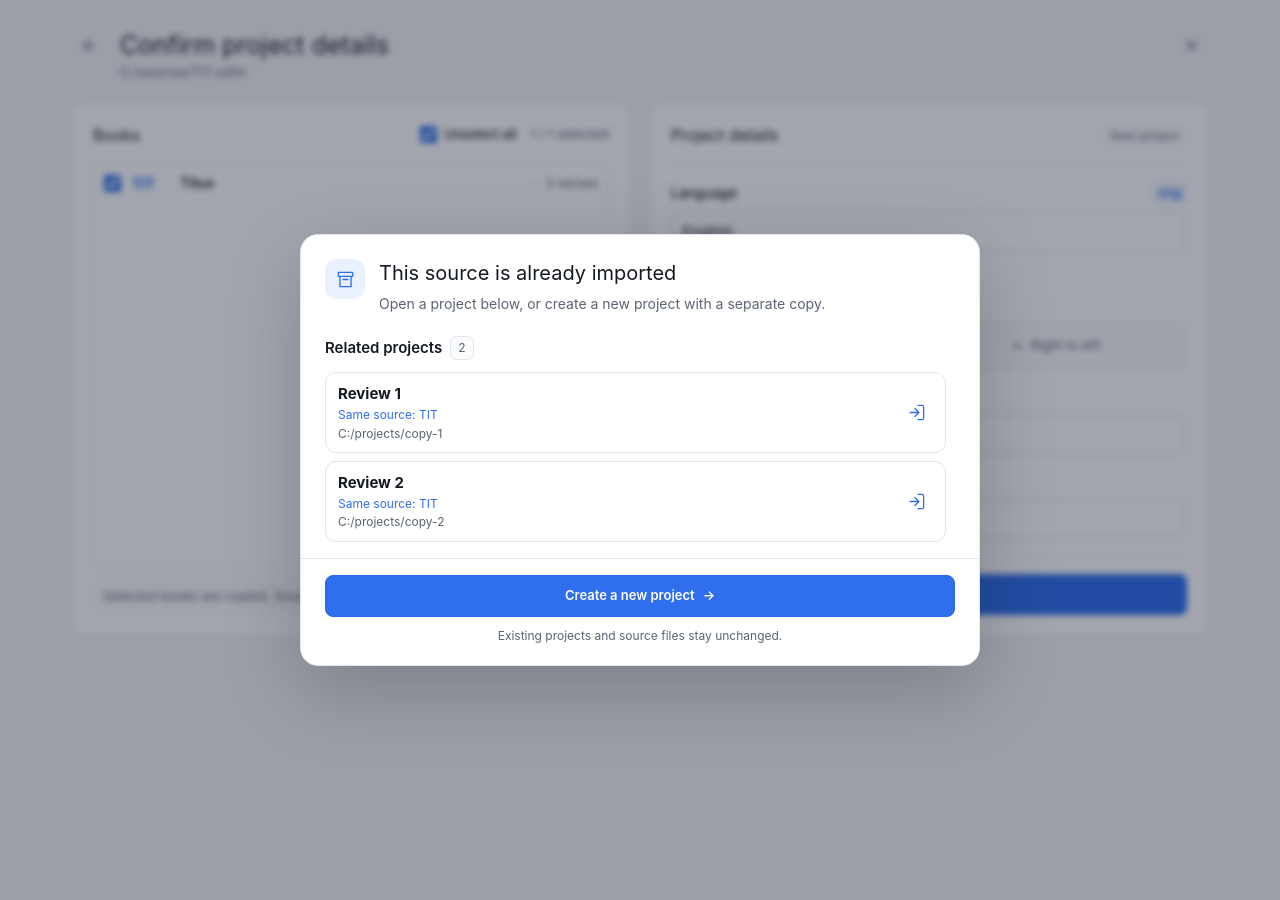
duplicate import choices (#407) › opens the chosen project instead of the first duplicate match
The image size is (1280, 900).
Expected: the heading "Confirm project details" is shown, [120, 30, 389, 60]
Expected: the 3rd icon is shown, [906, 492, 926, 511]
Hover over the button named "Open Review 2": [916, 501] box [899, 484, 933, 518]
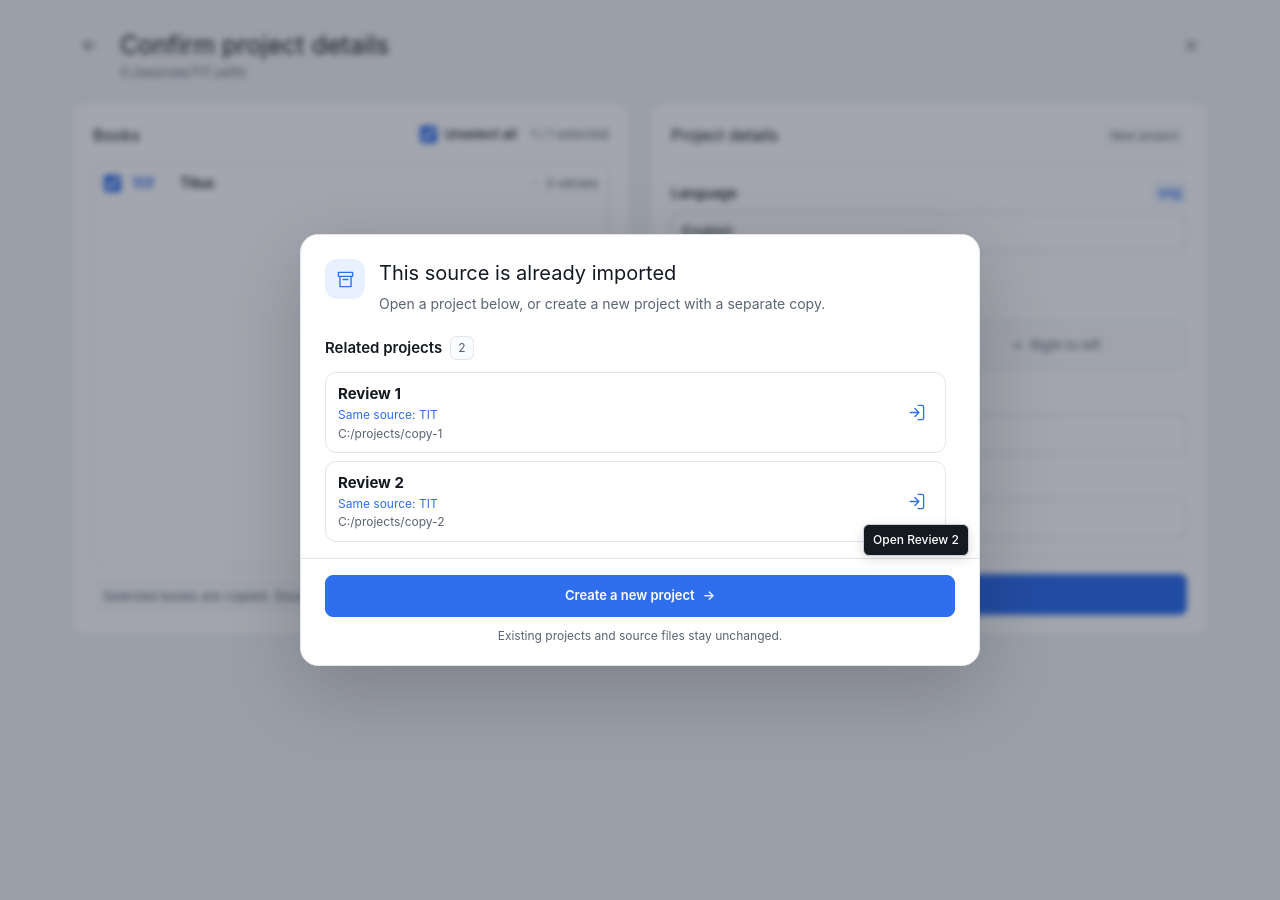
Now the tooltip reads "Open Review 2", box [873, 532, 959, 547]
Move the pointer off the button named "Open Review 2", box [899, 484, 933, 518]
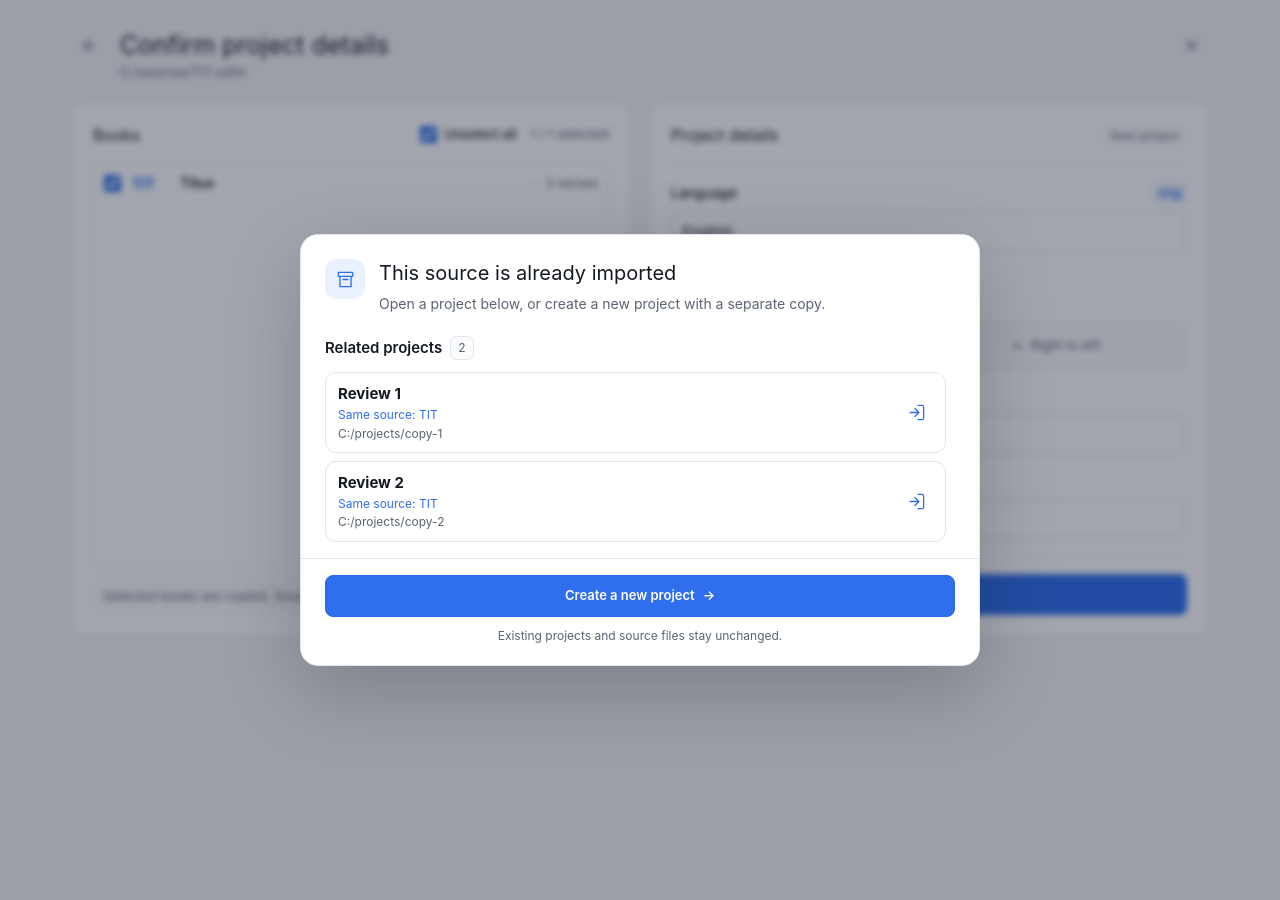
Click the button named "Open Review 2": [916, 501] box [899, 484, 933, 518]
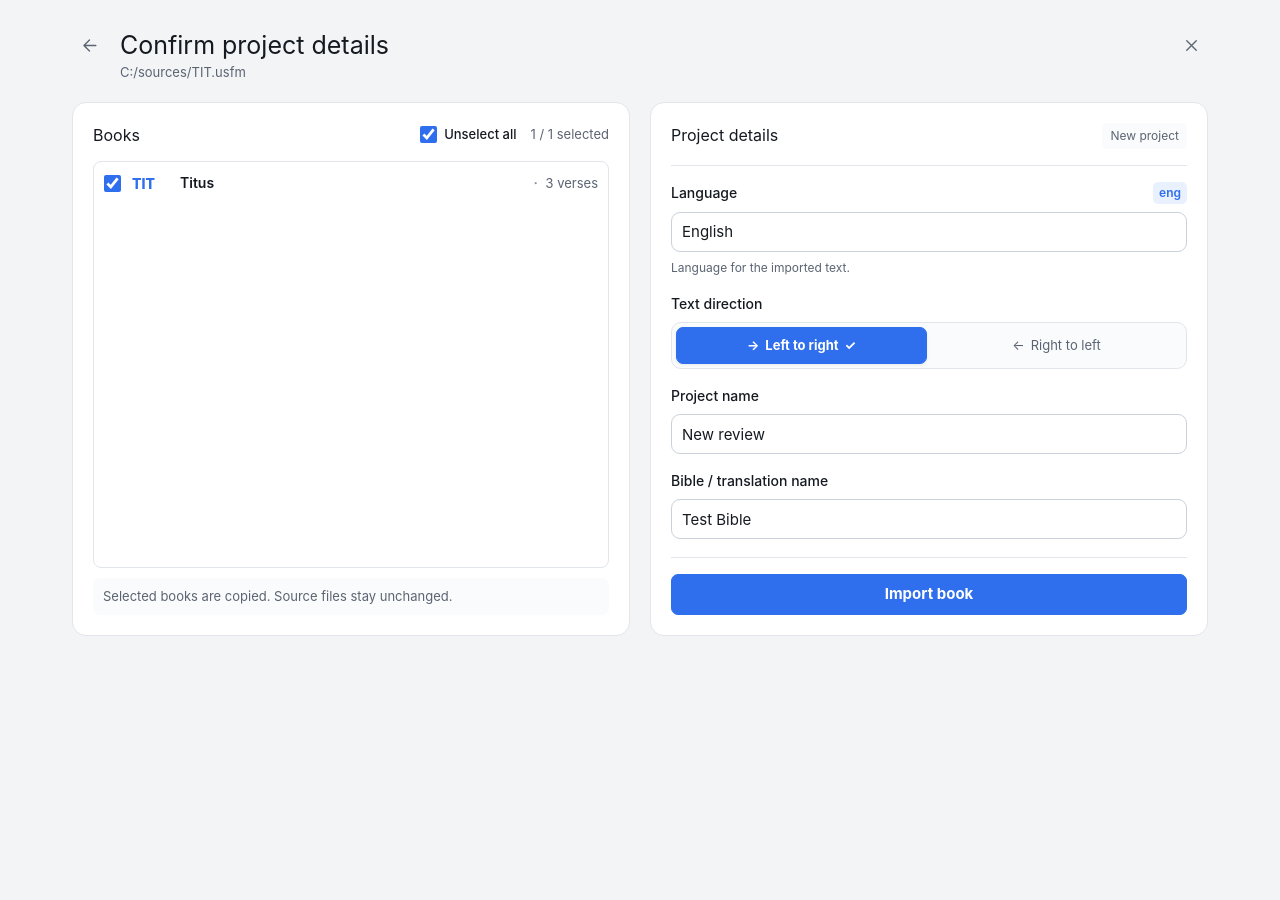
Now the dialog is gone
